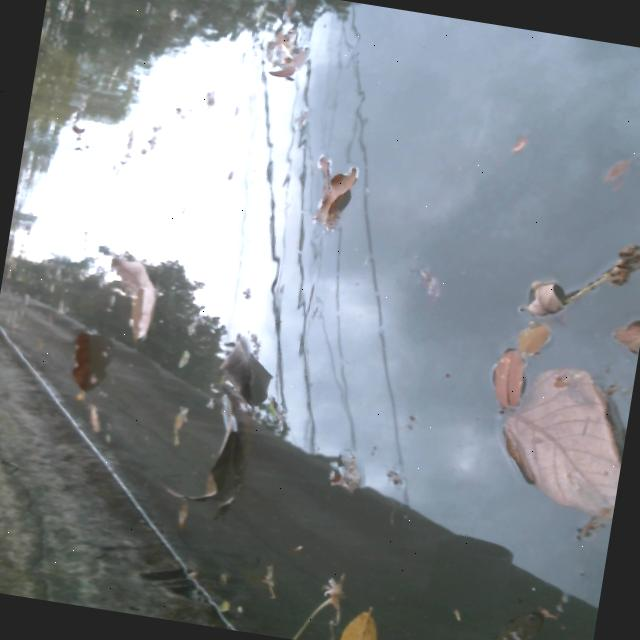Big-leaf: (485, 361, 634, 527), (172, 397, 260, 521), (94, 250, 174, 357), (53, 322, 108, 405), (213, 335, 276, 404)
Small-leaf: (573, 226, 640, 311), (283, 574, 349, 640), (305, 163, 367, 227), (516, 273, 588, 327), (476, 346, 532, 414), (497, 313, 566, 363), (264, 26, 320, 87), (322, 446, 373, 496), (593, 149, 640, 203), (326, 611, 399, 640), (496, 124, 542, 166), (163, 405, 199, 455), (398, 265, 445, 302), (252, 555, 290, 600), (604, 309, 640, 355), (63, 119, 98, 160), (163, 499, 197, 535), (78, 401, 113, 435), (274, 2, 304, 26)
